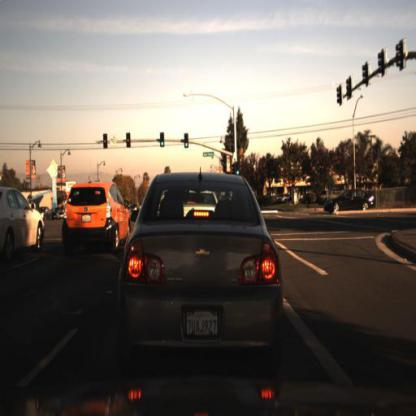car: (110, 166, 302, 363), (52, 169, 142, 281), (1, 169, 48, 272), (63, 181, 131, 249), (321, 183, 381, 223), (9, 187, 47, 225)
trafficLight: (125, 133, 133, 156), (103, 130, 111, 151), (160, 130, 168, 149)
trafficLight-Green: (180, 129, 194, 161), (234, 161, 242, 186), (158, 132, 166, 155), (235, 161, 243, 179)
trafficLight-Red: (183, 133, 190, 153)
trafficLight-RedLeft: (101, 130, 111, 157)
